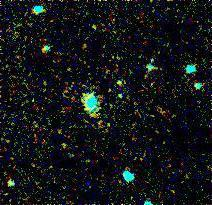star: (106, 75, 136, 105)
